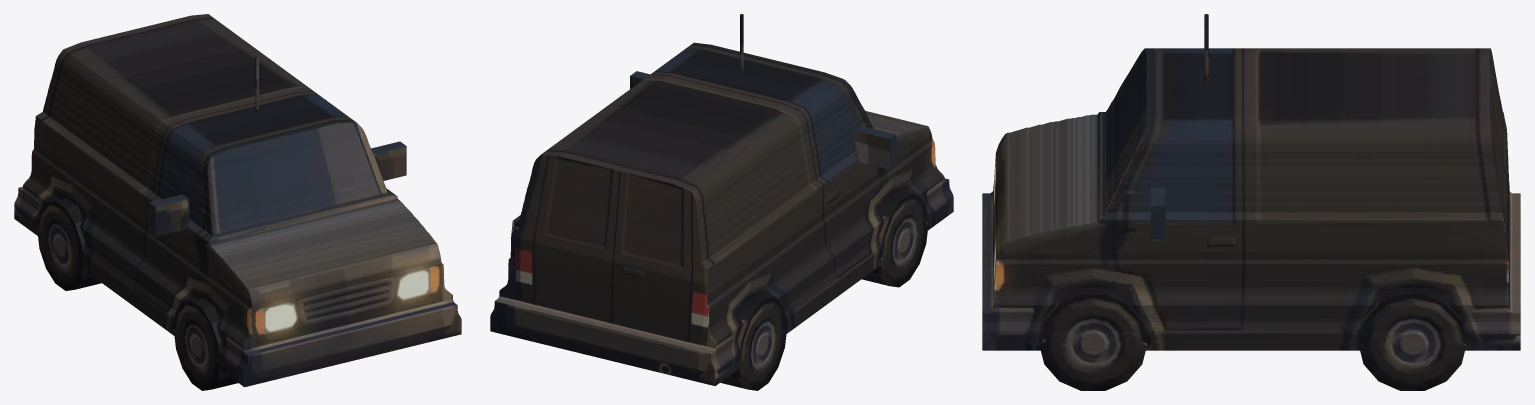
The model's file is VH_Van.glb.
3 renders of one model, left to right at view 1: azimuth 30°, elevation 25°; view 2: azimuth 150°, elevation 25°; view 3: azimuth 270°, elevation 25°, orthographic. The views are drawn at different scales.
Visible parts, largest first — view 1: VH_Van; view 2: VH_Van; view 3: VH_Van.
Part boxes in pixels (box(x1,y1,x2,y2)): VH_Van: box(14, 14, 461, 390); VH_Van: box(490, 14, 953, 390); VH_Van: box(982, 14, 1520, 390).
Size of the model in its own units: 2.24 by 2.29 by 3.56.
Materials: 1 (1 with a texture image).
